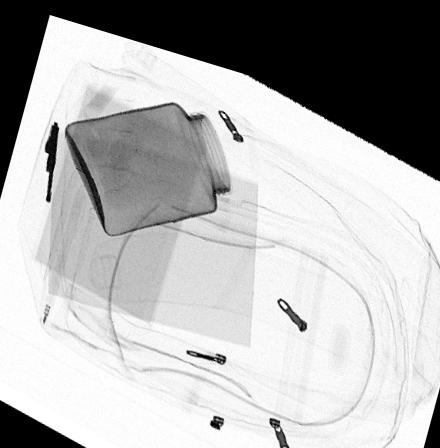Gun: (44, 118, 59, 199)
